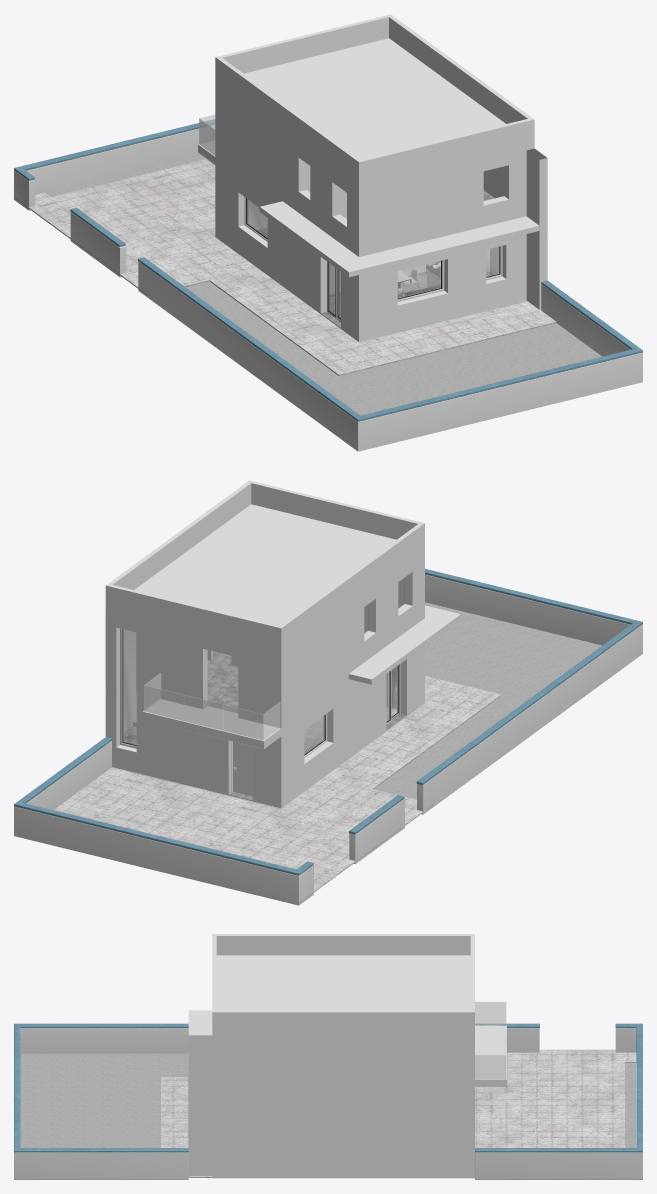
The picture shows the model from 3 angles, top to bottom: view 1: azimuth 30°, elevation 25°; view 2: azimuth 150°, elevation 25°; view 3: azimuth 270°, elevation 25°; orthographic projection. The views are drawn at different scales.
Visible parts, largest first — view 1: Balcony.001, Floor OutDoor, Green Floor, Plane.002, Glass Balcony, Window.007, String Course; view 2: Balcony.001, Floor OutDoor, Green Floor, Plane.002, Glass Balcony, String Course, Door.004, Window.007; view 3: Balcony.001, Floor OutDoor, Green Floor, Plane.002, Glass Balcony.
Part boxes in pixels (bbox=[...]): Balcony.001: bbox=[14, 14, 642, 451]; Floor OutDoor: bbox=[14, 159, 556, 375]; Green Floor: bbox=[46, 155, 601, 415]; Plane.002: bbox=[14, 119, 642, 421]; Glass Balcony: bbox=[199, 114, 498, 317]; Window.007: bbox=[244, 197, 502, 321]; String Course: bbox=[258, 190, 494, 327]; Balcony.001: bbox=[14, 480, 642, 905]; Floor OutDoor: bbox=[53, 676, 501, 903]; Green Floor: bbox=[374, 602, 601, 799]; Plane.002: bbox=[14, 569, 642, 875]; Glass Balcony: bbox=[123, 629, 397, 753]; String Course: bbox=[124, 651, 406, 800]; Door.004: bbox=[228, 740, 253, 800]; Window.007: bbox=[120, 628, 400, 757]; Balcony.001: bbox=[14, 934, 642, 1179]; Floor OutDoor: bbox=[161, 1049, 636, 1177]; Green Floor: bbox=[20, 1053, 635, 1147]; Plane.002: bbox=[14, 1023, 642, 1152]; Glass Balcony: bbox=[475, 1001, 506, 1079].
Size of the model in its own units: 11.34 by 6.97 by 23.69.
Materials: 89 (36 with a texture image).
